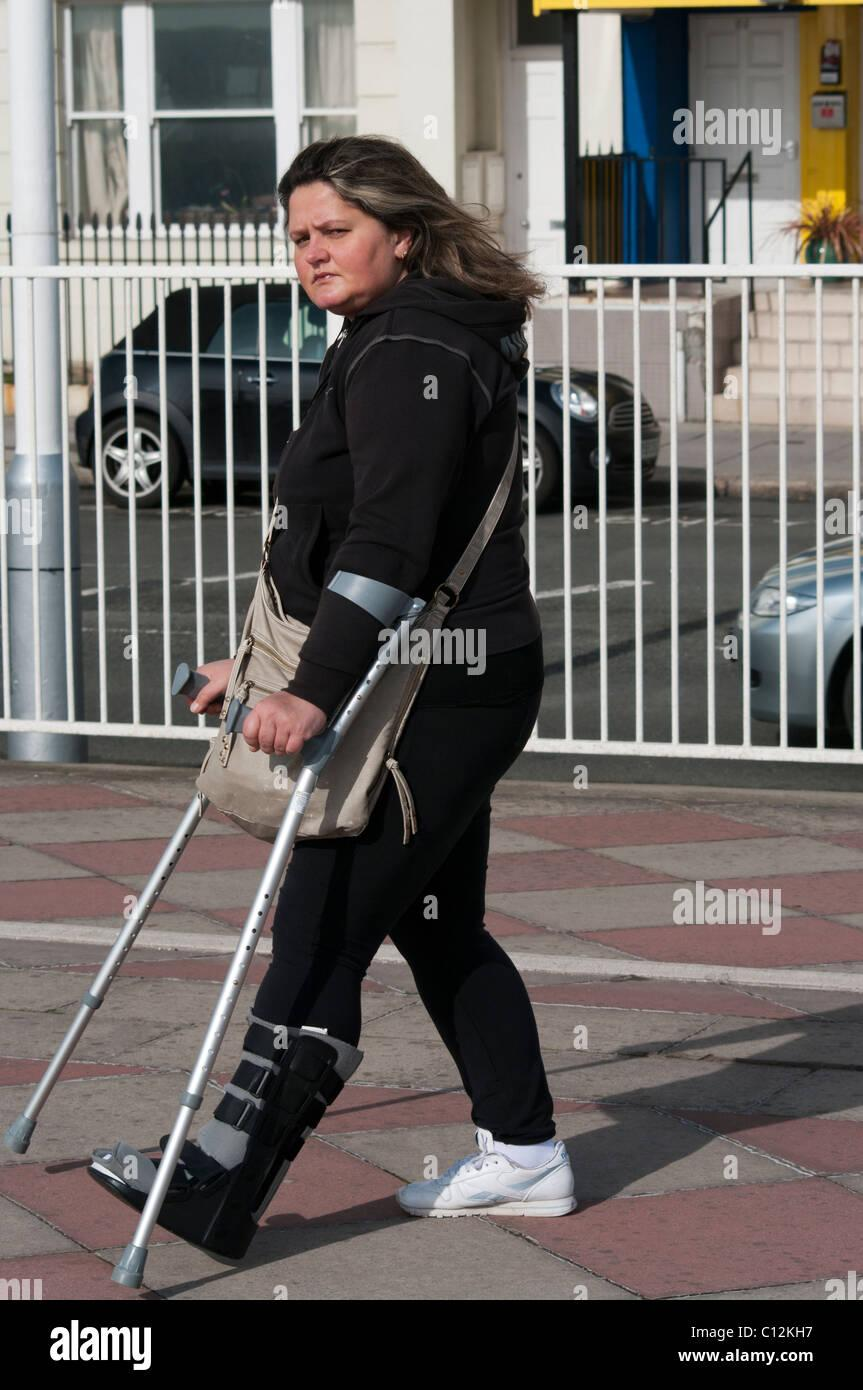crutches: (3, 135, 578, 1290)
